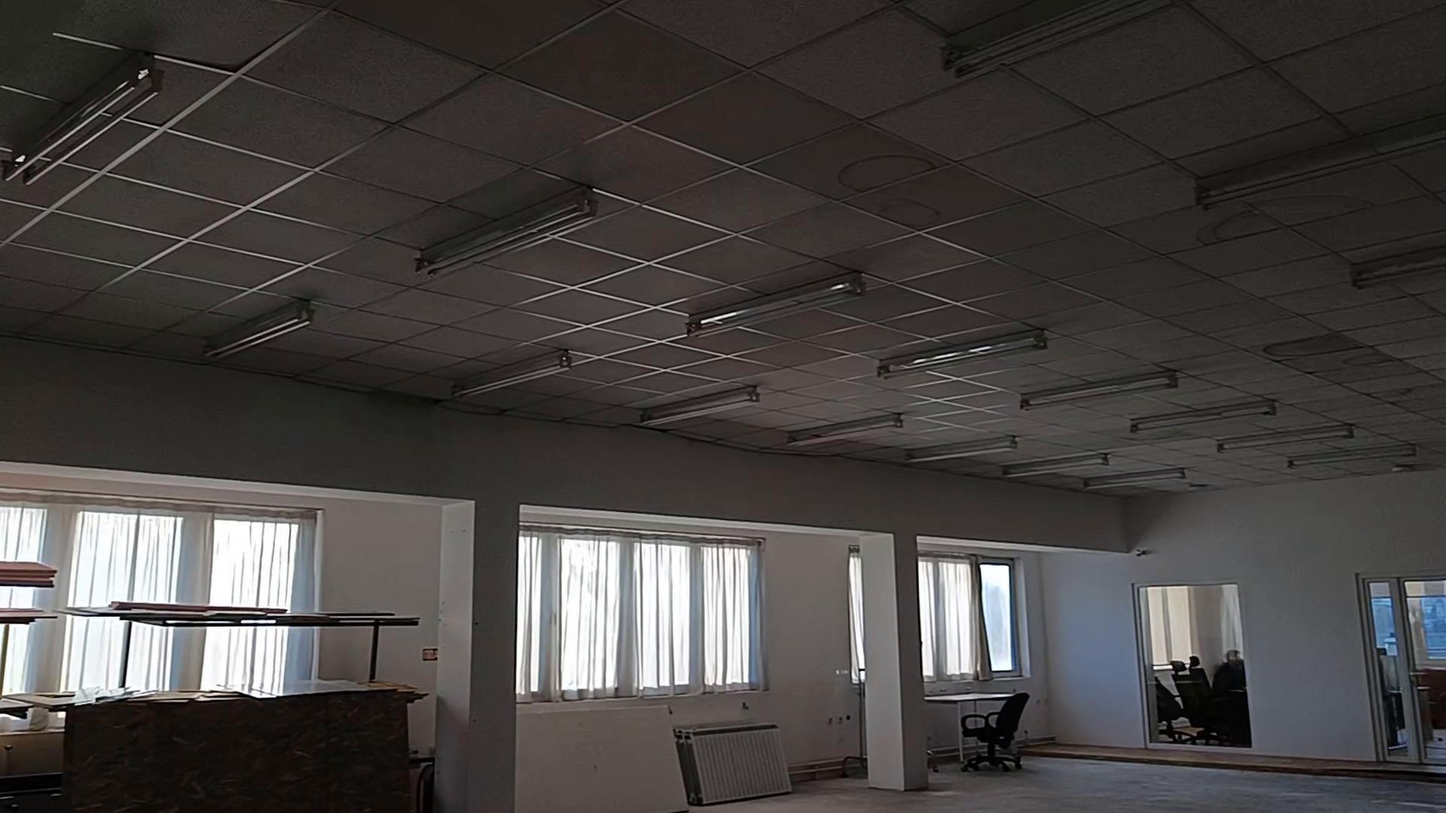ceiling: (0, 0, 1445, 492)
floor: (694, 751, 1445, 812)
wall: (4, 349, 1128, 812), (1046, 472, 1441, 752), (859, 534, 929, 790), (763, 546, 845, 762), (326, 513, 434, 676)
